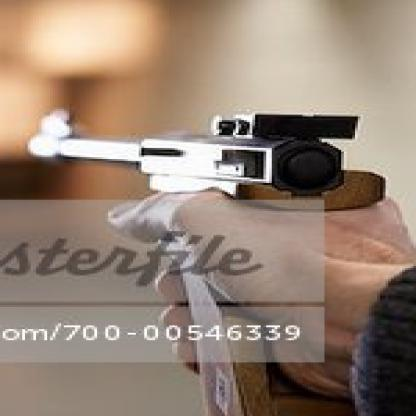gun: (3, 90, 415, 415)
